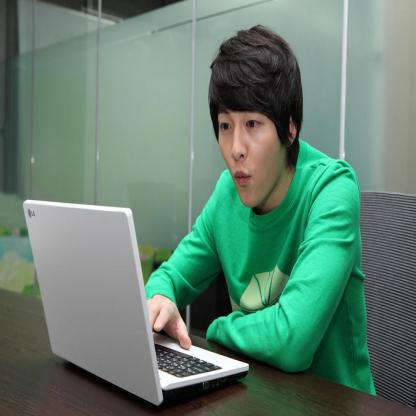board: (27, 209, 235, 405)
